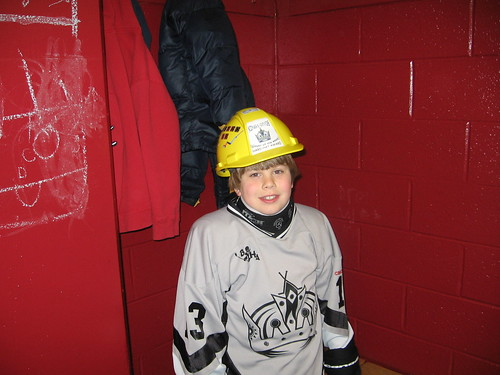person hardhat: (173, 106, 359, 375)
